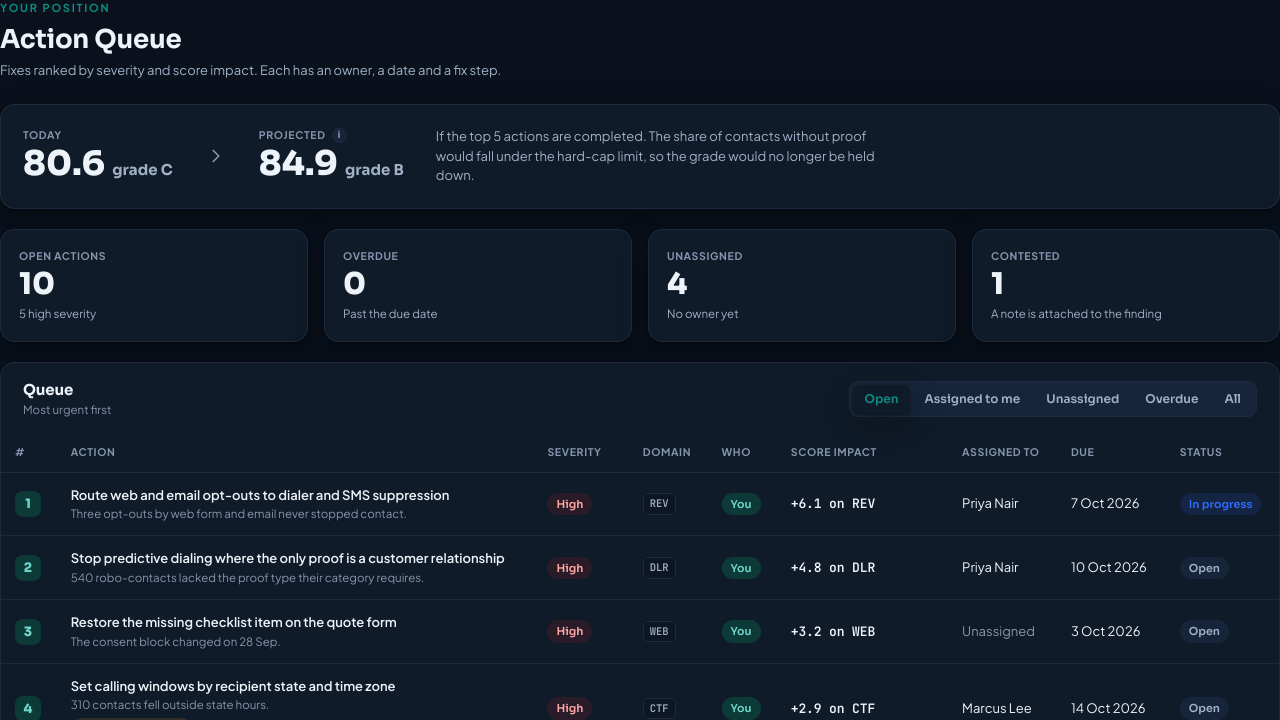
Test: interactions › assigns an action and attaches a note contesting the finding
The width and height of the screenshot is (1280, 720).
Click the button "Restore the missing checklist item on the quote form".
click(234, 623)  # box [71,613,397,633]
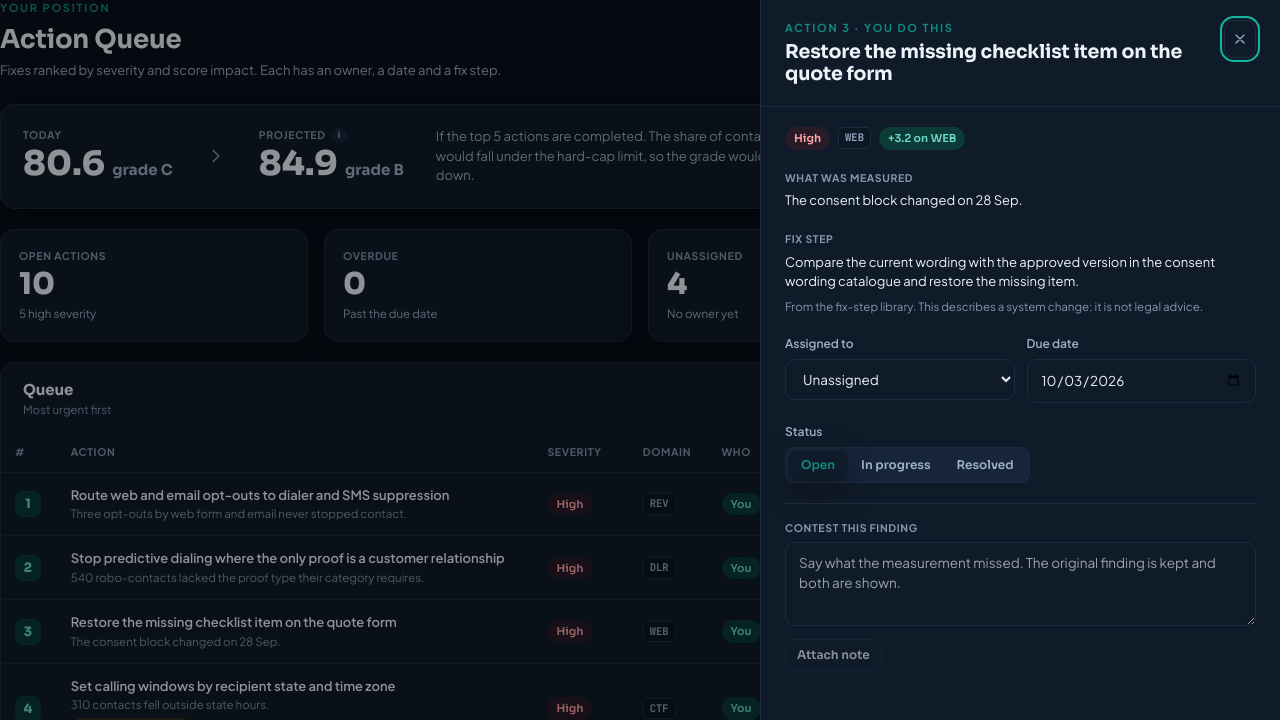
Select "Marcus Lee" in the dropdown labelled "Assigned to" at [900, 379], box [785,359,1014,400]
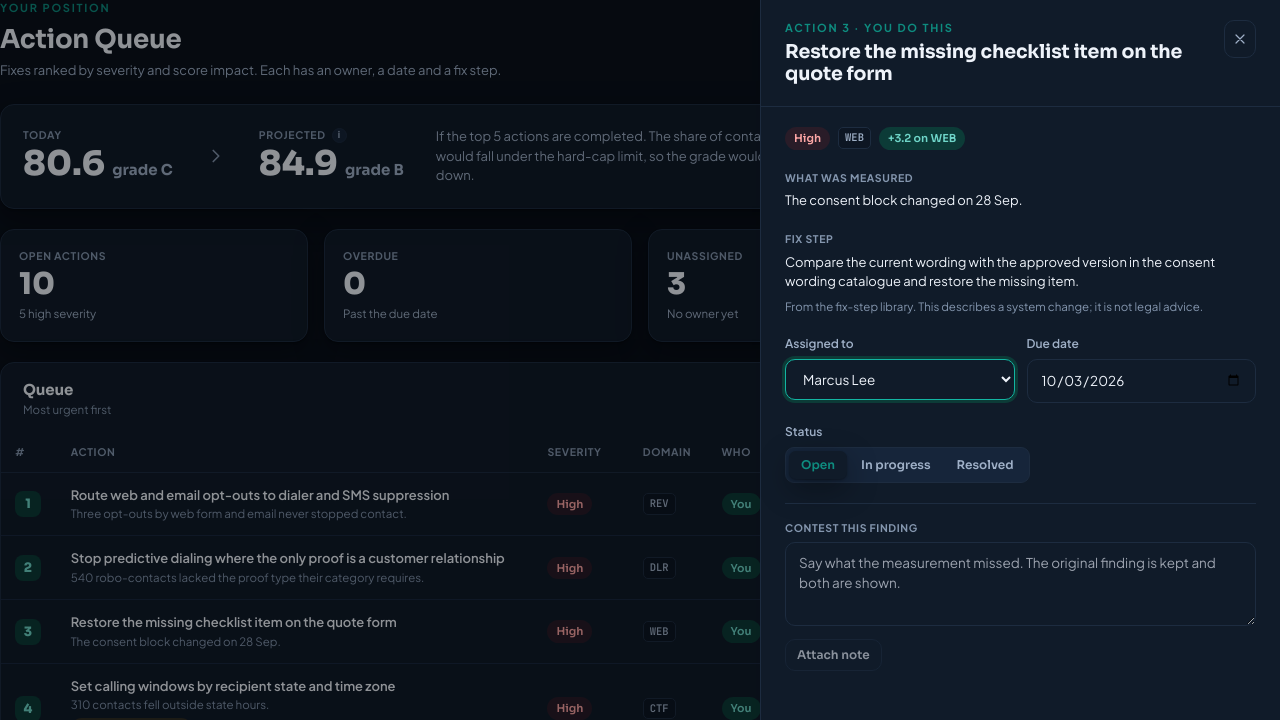
Type "The form was restored on 29 Sep." into the text box named "Note contesting the finding".
click(1020, 584); type("The form was restored on 29 Sep.")  # box [785,542,1256,626]
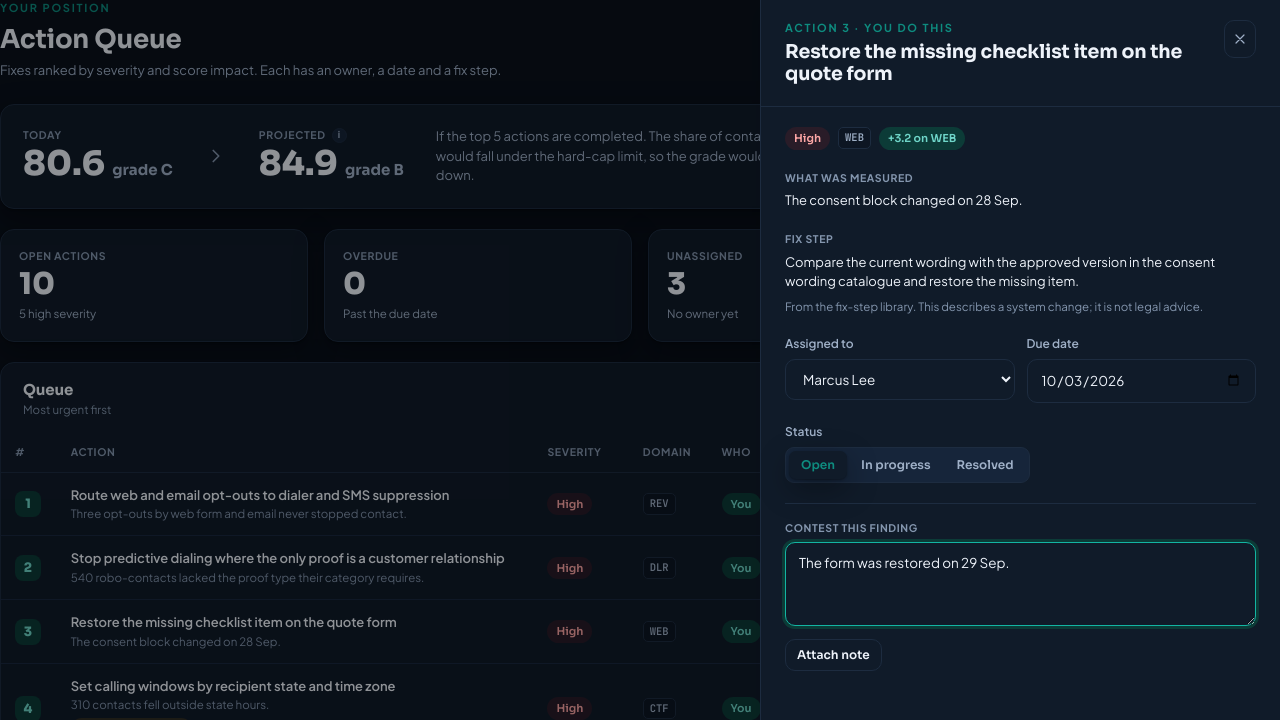
Click the button "Attach note".
click(833, 655)  # box [785,639,882,671]
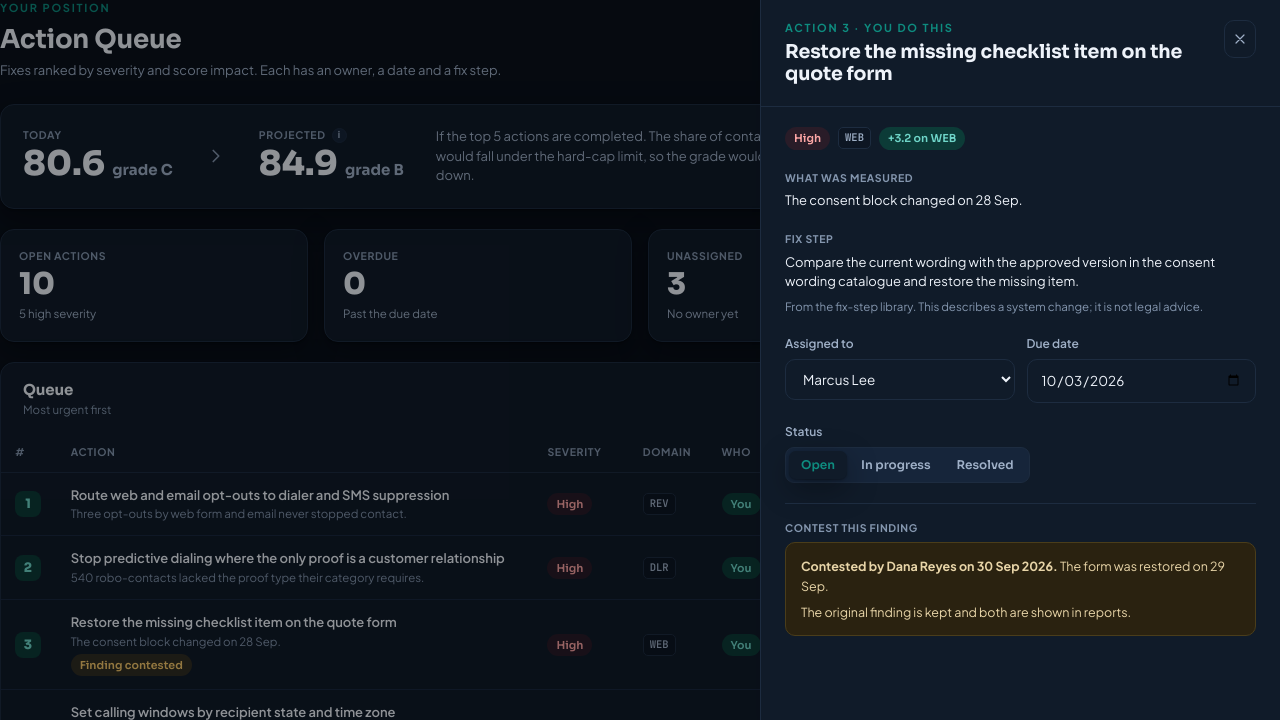
Check: the text "Contested by Dana Reyes on 30 Sep 2026." is shown, box [801,558,1058,574]
